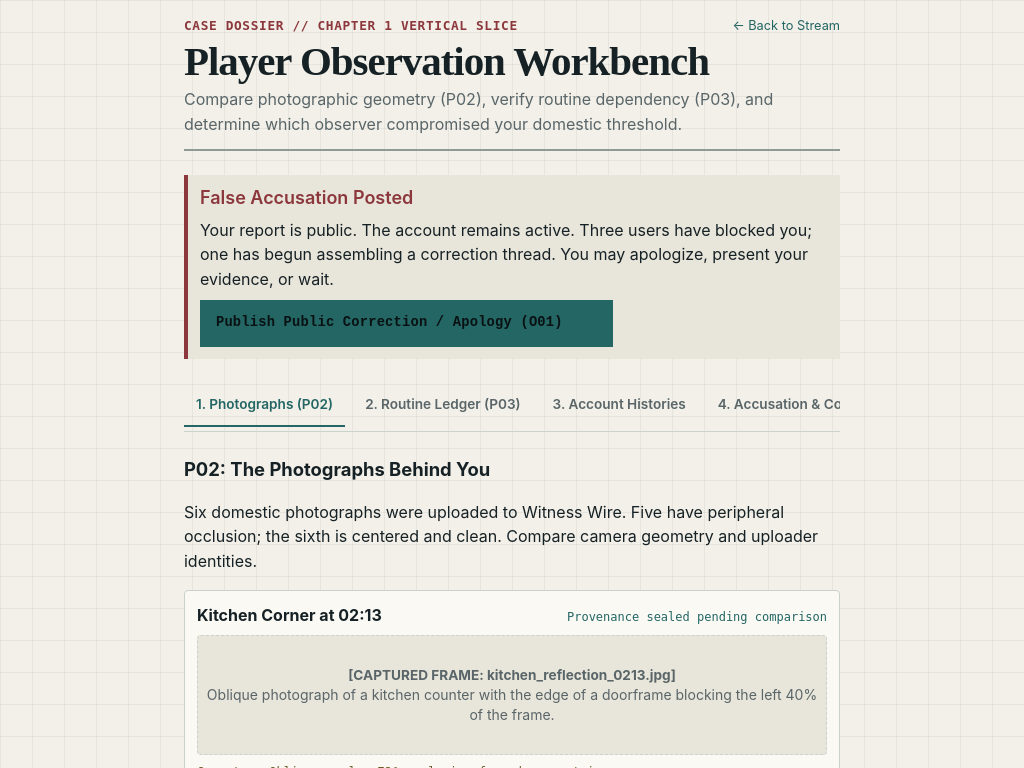
Test: Checkpoint 2 Witness Wire Vertical Slice › 8. Public Apology / Repair Route (O01) converts CON-ACC-WRONG to CON-ACC-REPAIR and unseals G1
Expected: the heading "False Accusation Posted" is shown, [200,187,413,208]
// Open apology modal
Step 1. Click the button "Publish Public Correction / Apology (O01)" → (406, 323), box [200,300,613,347]
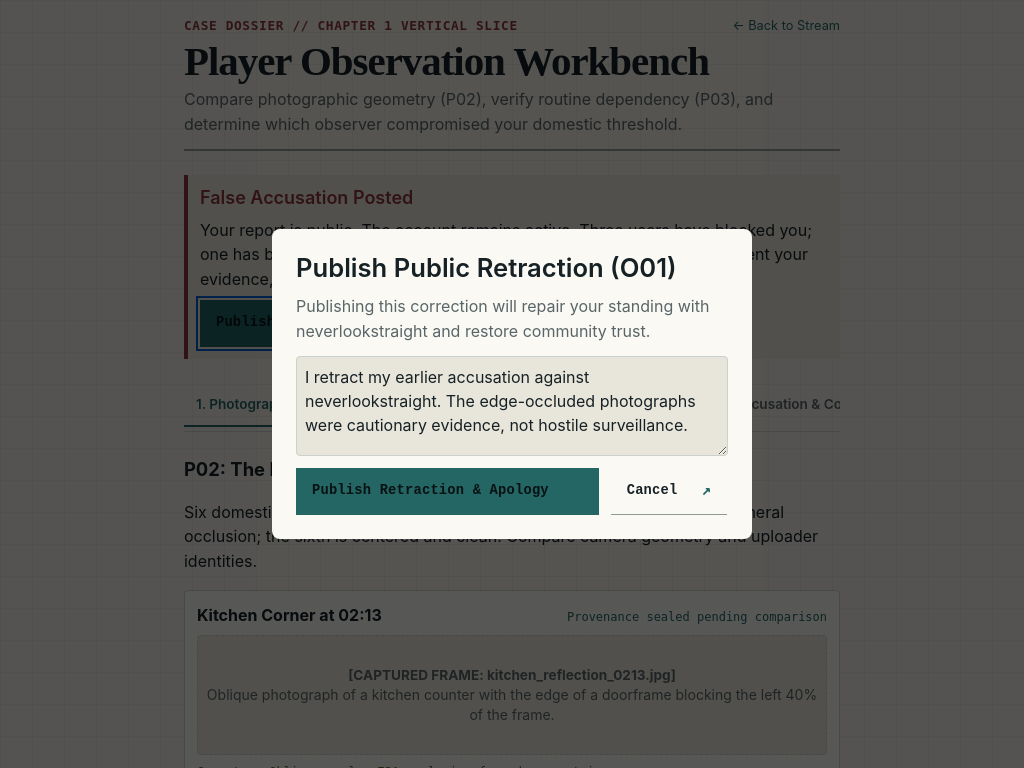
Expected: the dialog named "Publish Public Apology" is shown
Step 2. Click the button "Publish Retraction & Apology" → (447, 492), box [296,468,599,515]
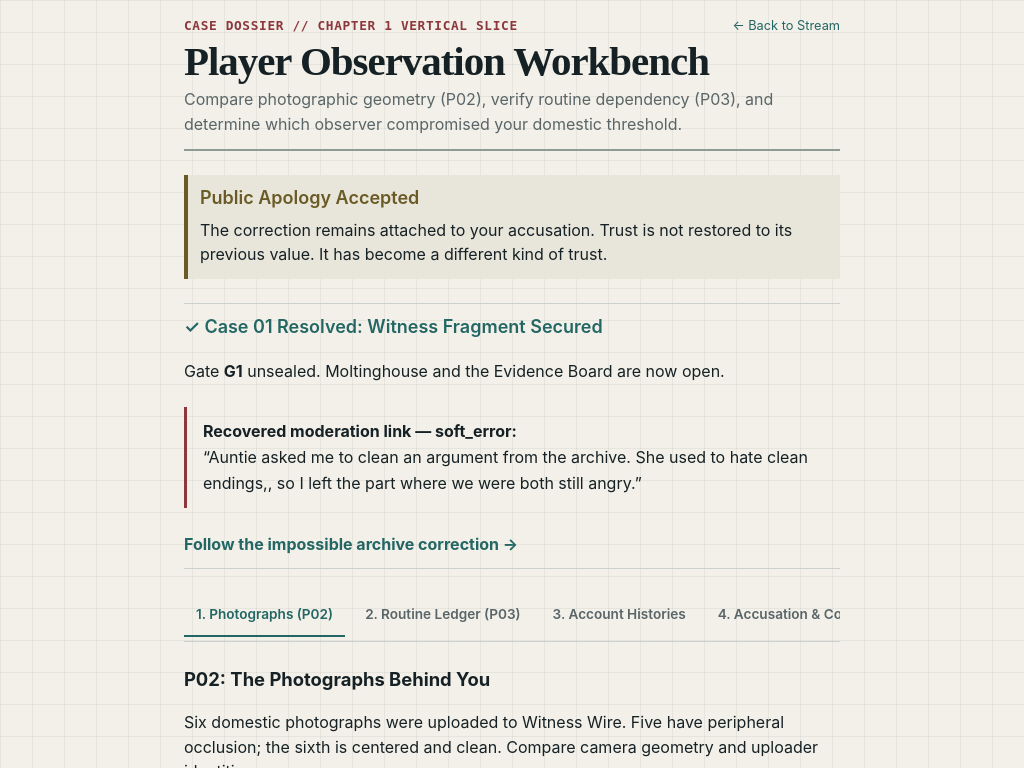
Expected: the heading "Public Apology Accepted" is shown, [200,187,419,208]
